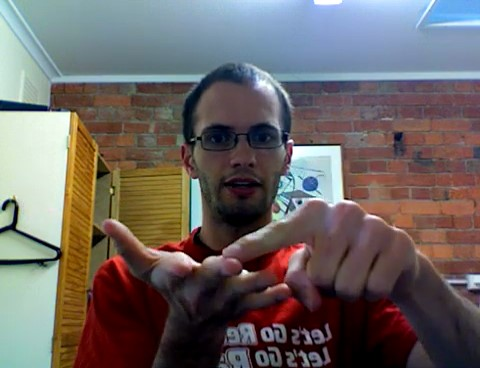I: (94, 193, 425, 328)
